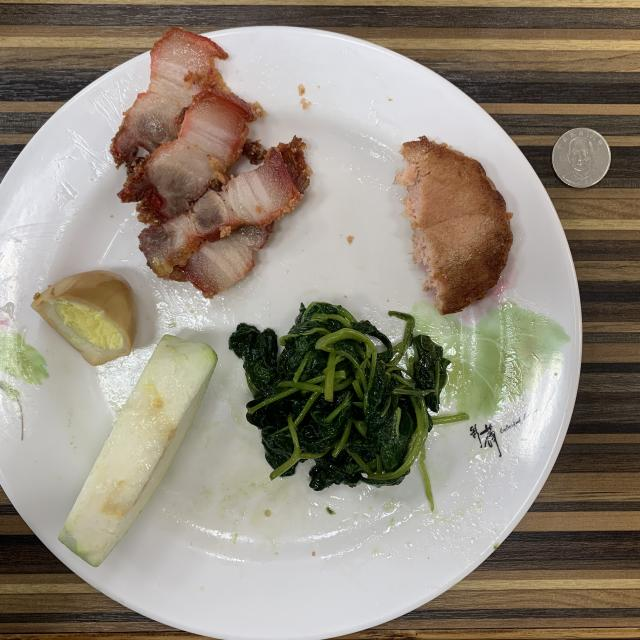Spam: (395, 136, 512, 315)
coin: (552, 128, 611, 188)
guava -sliced-: (59, 335, 218, 566)
red grilled pork: (110, 28, 310, 294)
soy egg: (31, 270, 138, 365)
sweet potato leaves: (230, 302, 468, 498)
